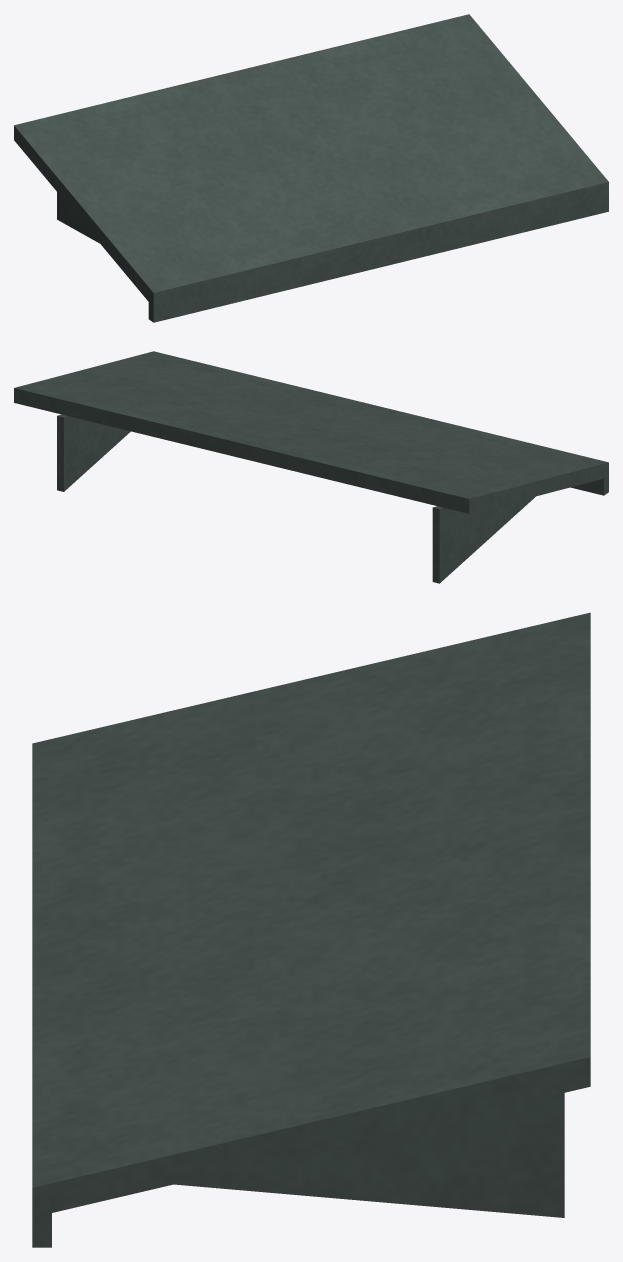
File: sloped-metal-awning.lod1.glb
3 views of the same model, one above another, from view 1: azimuth 30°, elevation 25°; view 2: azimuth 150°, elevation 25°; view 3: azimuth 270°, elevation 25° (orthographic). The views are drawn at different scales.
Visible parts, largest first — view 1: sloped-metal-awning; view 2: sloped-metal-awning; view 3: sloped-metal-awning.
Part boxes in pixels (x1,y1,x2,y2): sloped-metal-awning: [14, 14, 608, 322]; sloped-metal-awning: [14, 351, 608, 583]; sloped-metal-awning: [32, 612, 590, 1247].
Size of the model in its own units: 1.6 by 0.33 by 0.85.
Materials: 1 (1 with a texture image).
